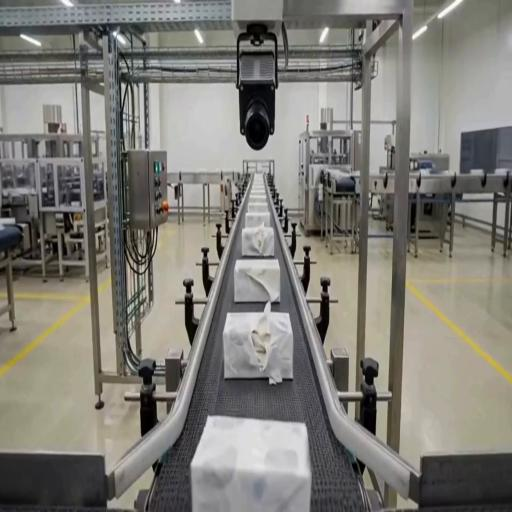defective: (222, 308, 296, 380), (233, 256, 283, 303), (242, 225, 276, 256)
good: (188, 408, 315, 512), (245, 211, 271, 225), (248, 201, 269, 211), (249, 194, 268, 201), (250, 189, 266, 194)
